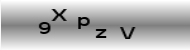9: (38, 21, 51, 34)
V: (119, 25, 136, 39)
X: (50, 8, 67, 21)
p: (76, 15, 90, 29)
z: (94, 28, 107, 38)
